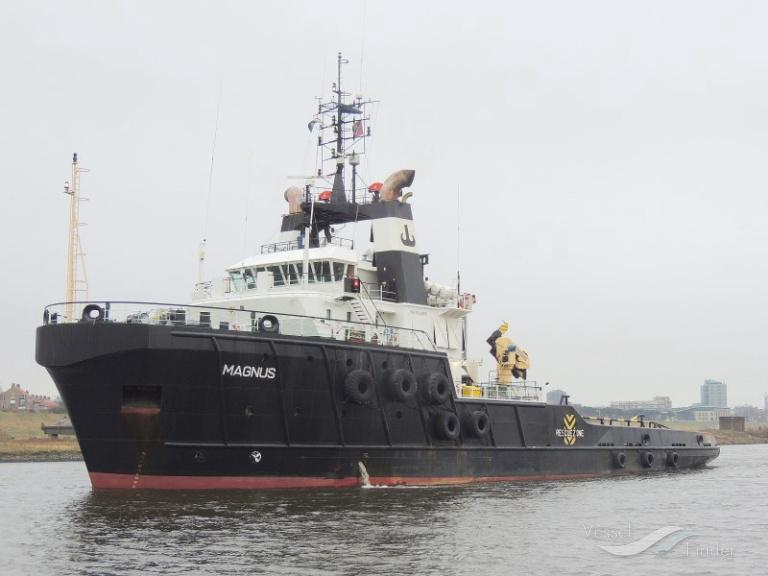OCR: (213, 349, 280, 387)
